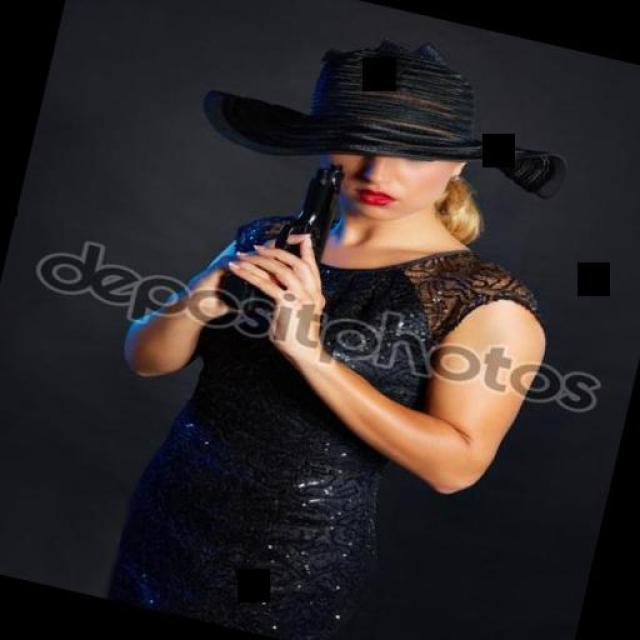gun: (205, 140, 350, 330)
